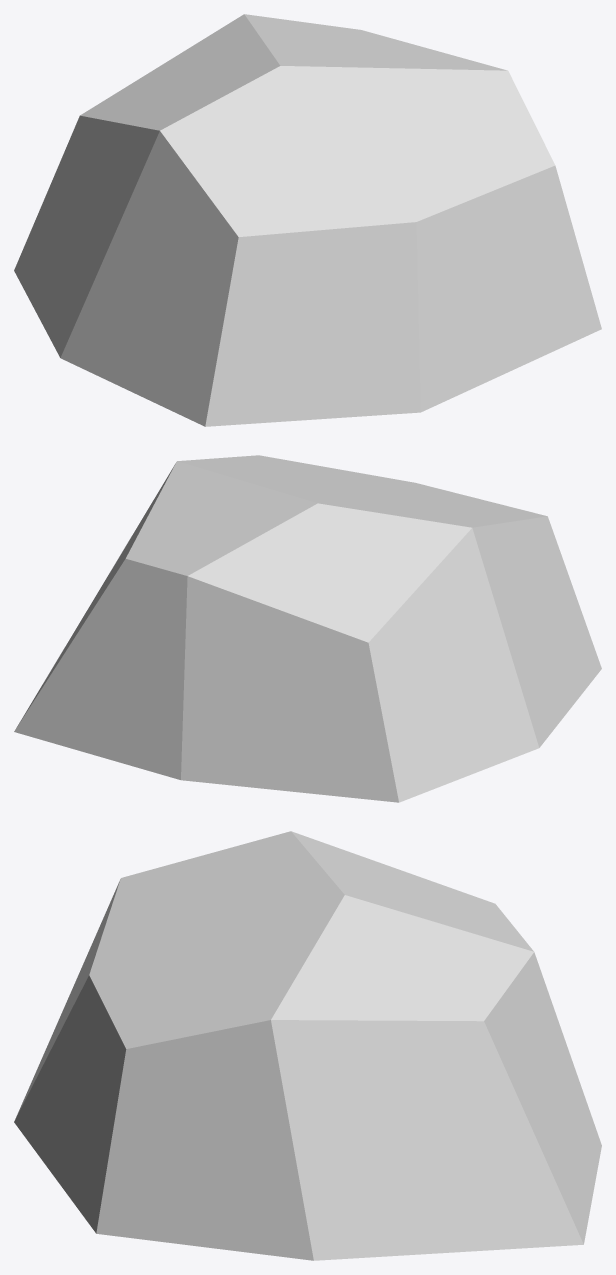
Rendered from rock-002.glb.
The picture shows the model from 3 angles, top to bottom: view 1: azimuth 30°, elevation 25°; view 2: azimuth 150°, elevation 25°; view 3: azimuth 270°, elevation 25°; orthographic projection. The views are drawn at different scales.
Visible parts, largest first — view 1: Rock.002; view 2: Rock.002; view 3: Rock.002.
Boxes of the visible parts, <box> form: Rock.002: <box>14,14,601,426</box>; Rock.002: <box>14,455,601,802</box>; Rock.002: <box>14,831,601,1260</box>.
Bounding box in the file's own units: 1.54 × 0.6832 × 1.54.
Materials: 1 (1 with a texture image).
